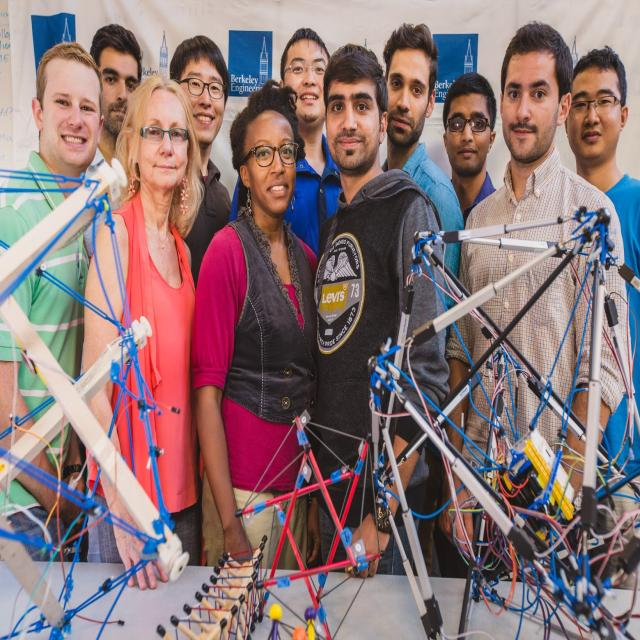body: (440, 19, 635, 591), (187, 75, 327, 640), (312, 42, 451, 576), (80, 73, 202, 592), (0, 38, 106, 560), (564, 44, 640, 590), (228, 26, 343, 267), (380, 20, 464, 349), (164, 33, 234, 294), (84, 22, 143, 261), (438, 69, 502, 226)
